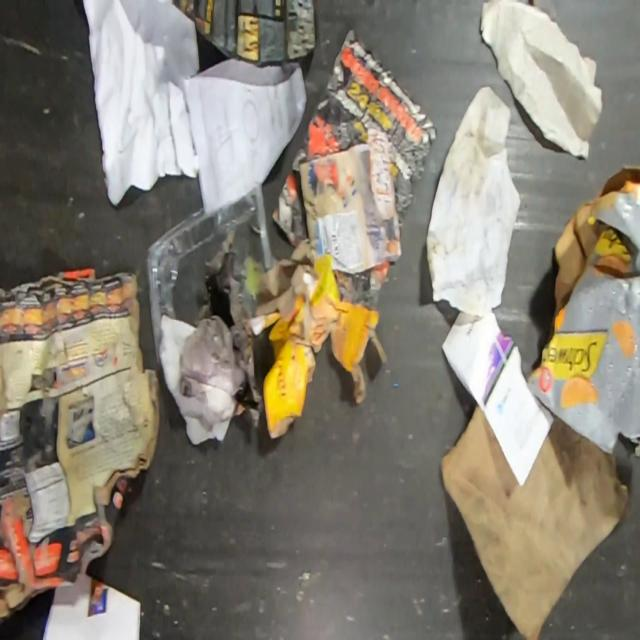cardboard: (0, 267, 161, 631), (440, 402, 632, 640), (525, 164, 640, 457), (247, 238, 390, 439), (440, 310, 554, 484)
rigid_plastic: (145, 179, 278, 364)
